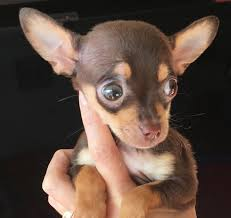chihuahua: (11, 4, 231, 203)
